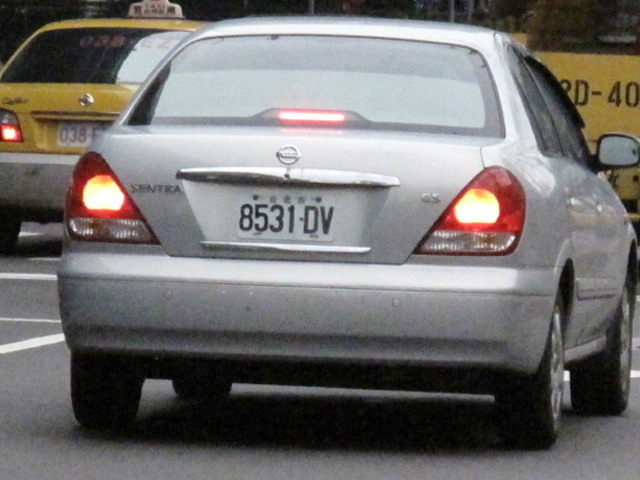plate: (236, 193, 339, 246), (56, 119, 104, 149)
